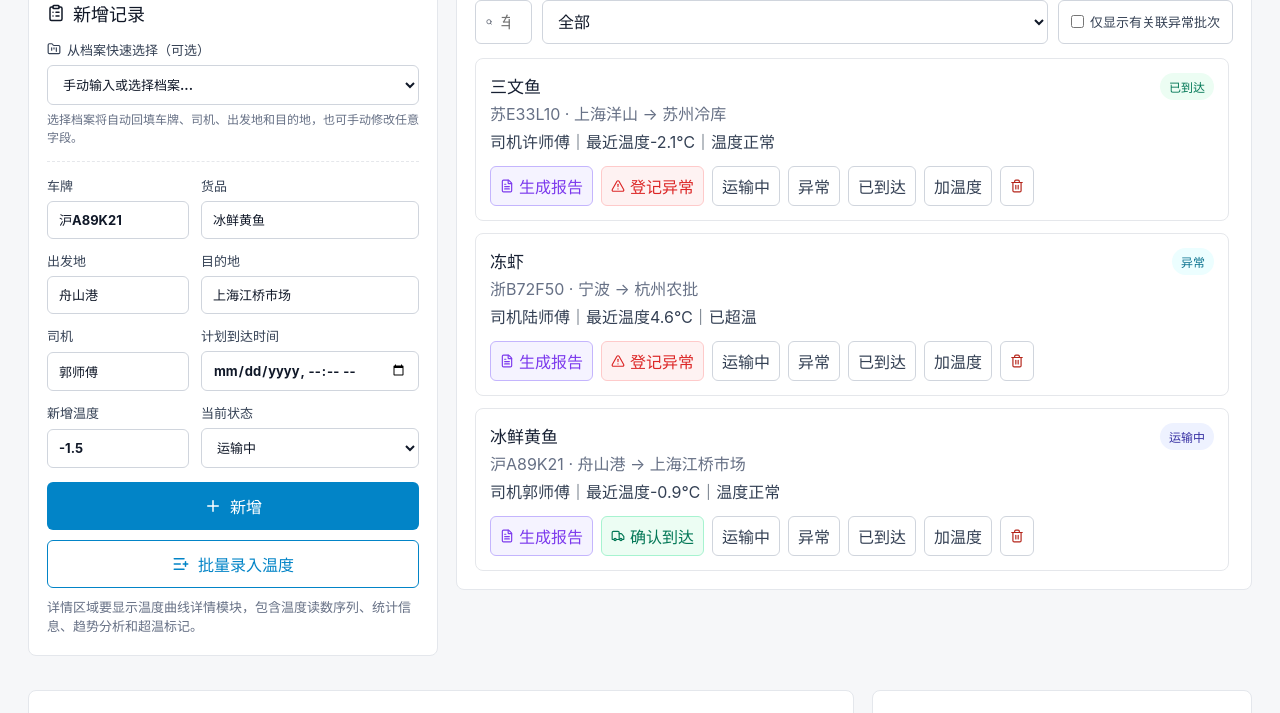
Test: App 冒烟测试 - 核心页面路径 › 报告生成 › 超温批次报告显示超温信息
This screenshot has width=1280, height=713.
(page scrolled)
Click the 2nd button with class "gen-report-btn". click: coordinates (542, 361)
box: x1=490 y1=341 x2=593 y2=381
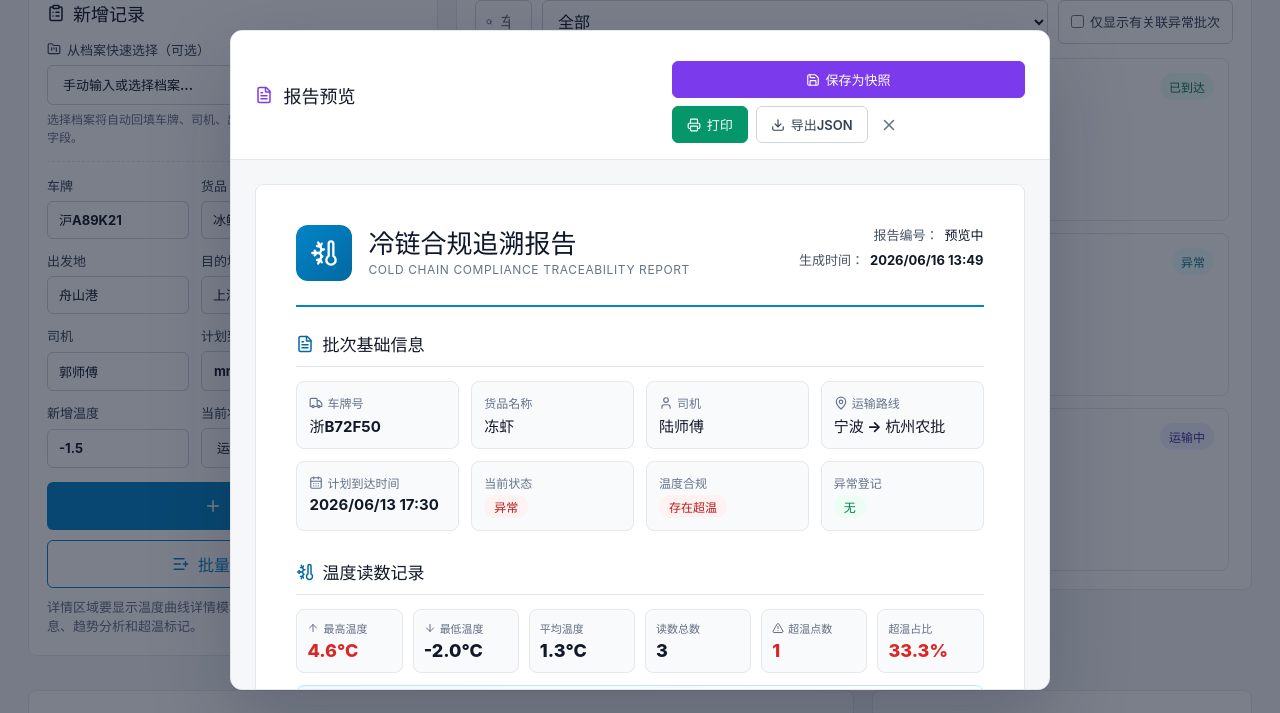
Now the text "超温点数" is shown, box x1=772 y1=622 x2=832 y2=636
